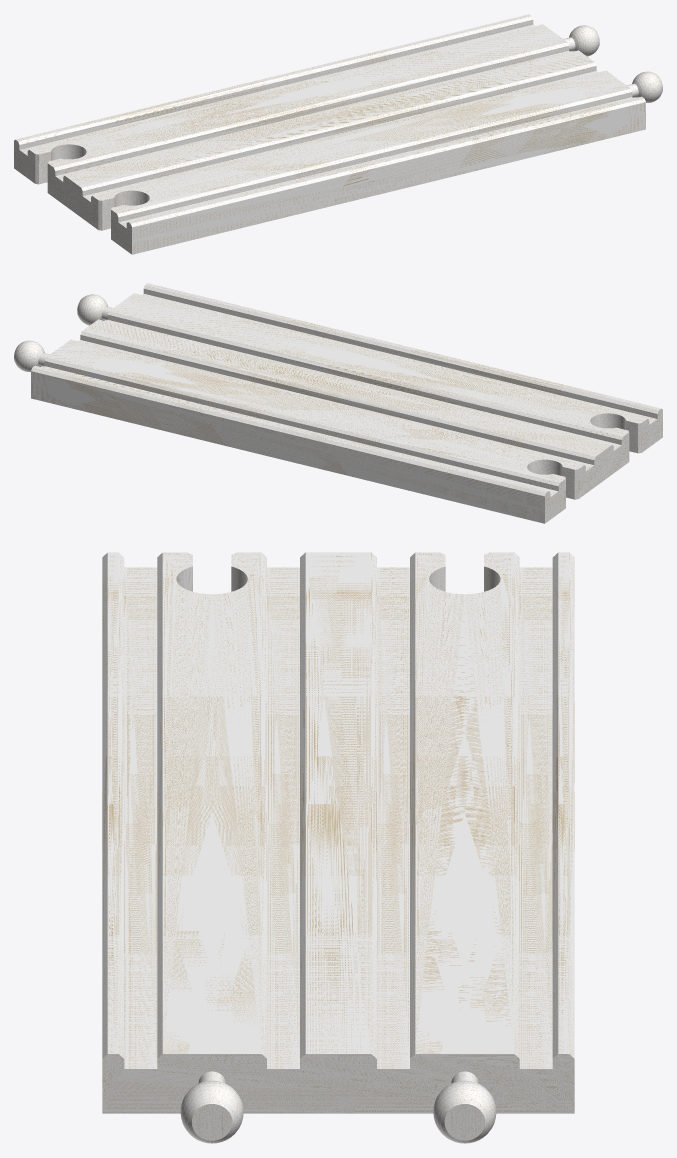
The picture shows the model from 3 angles, top to bottom: view 1: azimuth 30°, elevation 25°; view 2: azimuth 150°, elevation 25°; view 3: azimuth 270°, elevation 25°; orthographic projection. The views are drawn at different scales.
Visible parts, largest first — view 1: SketchUp, _3d_peg (×2); view 2: SketchUp, _3d_peg (×2); view 3: SketchUp, _3d_peg (×2).
Part boxes in pixels (box(x1,y1,x2,y2)): SketchUp: box(14, 14, 645, 254); _3d_peg (×2): box(563, 25, 662, 102); SketchUp: box(31, 283, 662, 523); _3d_peg (×2): box(14, 294, 113, 371); SketchUp: box(102, 552, 574, 1113); _3d_peg (×2): box(180, 1071, 496, 1143).
Size of the model in its own units: 9.16 by 3.39 by 0.4724.
